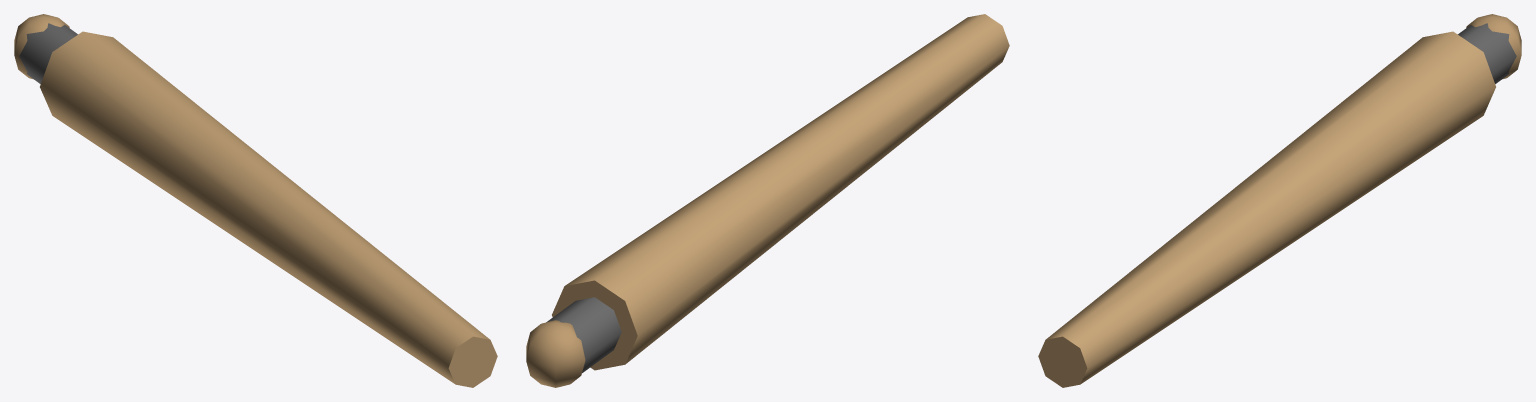
File: weapon_bat.glb
3 renders of one model, left to right at view 1: azimuth 30°, elevation 25°; view 2: azimuth 150°, elevation 25°; view 3: azimuth 330°, elevation 25°, orthographic.
Visible parts, largest first — view 1: shaft, grip, knob; view 2: shaft, knob, grip; view 3: shaft, grip, knob.
Boxes of the visible parts, left/top/right/bottom form: shaft: left=40, top=31, right=497, bottom=387; grip: left=19, top=23, right=77, bottom=83; knob: left=14, top=14, right=69, bottom=79; shaft: left=552, top=14, right=1009, bottom=370; knob: left=526, top=320, right=585, bottom=387; grip: left=546, top=297, right=621, bottom=372; shaft: left=1038, top=31, right=1495, bottom=387; grip: left=1458, top=23, right=1516, bottom=83; knob: left=1466, top=14, right=1521, bottom=79.
Bounding box in the file's own units: 0.21 × 0.21 × 1.88.
